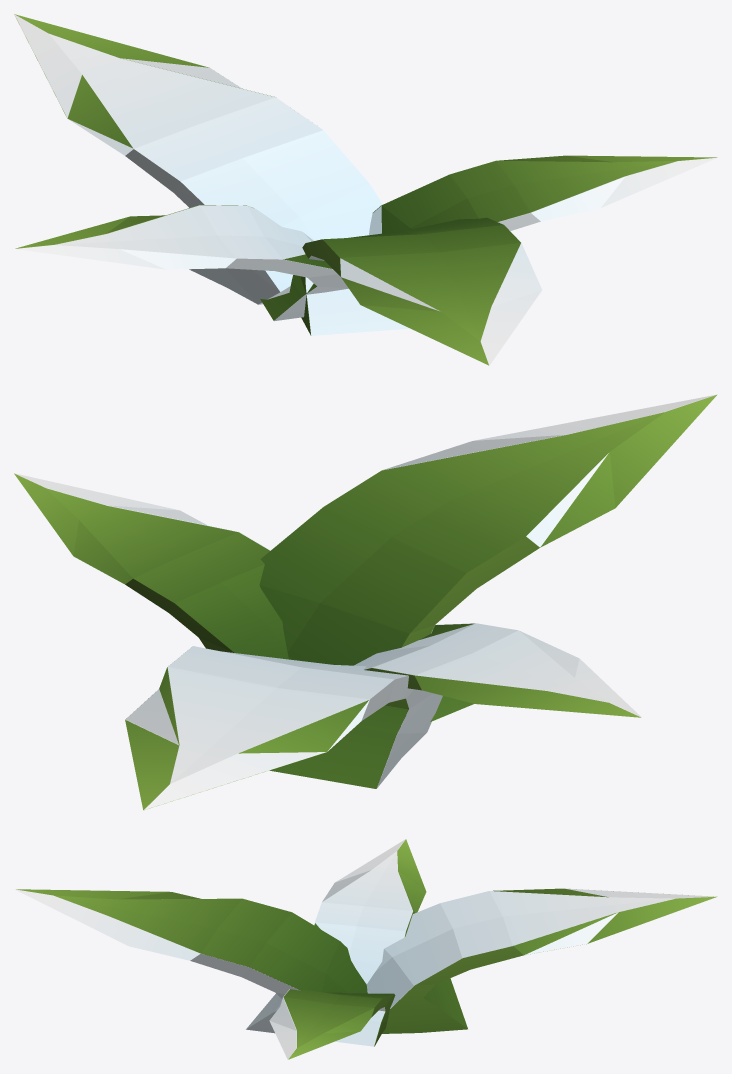
The model's file is herbe2.fbx.
3 views of the same model, one above another, from view 1: azimuth 30°, elevation 25°; view 2: azimuth 150°, elevation 25°; view 3: azimuth 270°, elevation 25° (orthographic). The views are drawn at different scales.
Visible parts, largest first — view 1: Cube.014, Cube.012; view 2: Cube.012, Cube.014; view 3: Cube.012, Cube.014.
Boxes of the visible parts, x1,y1,x2,y2 form: Cube.014: (14, 14, 717, 365); Cube.012: (14, 14, 717, 365); Cube.012: (14, 395, 716, 810); Cube.014: (15, 394, 717, 809); Cube.012: (16, 839, 717, 1059); Cube.014: (15, 839, 714, 1059).
Bounding box in the file's own units: 0.8239 × 0.1511 × 1.11.
2 materials, 2 textured.
